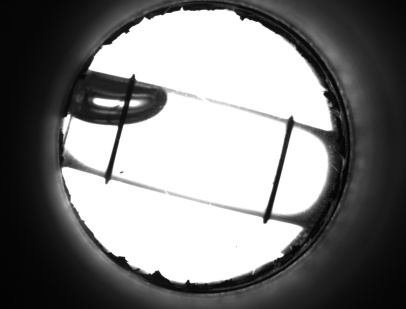line: (264, 139, 292, 205), (105, 133, 124, 165)
